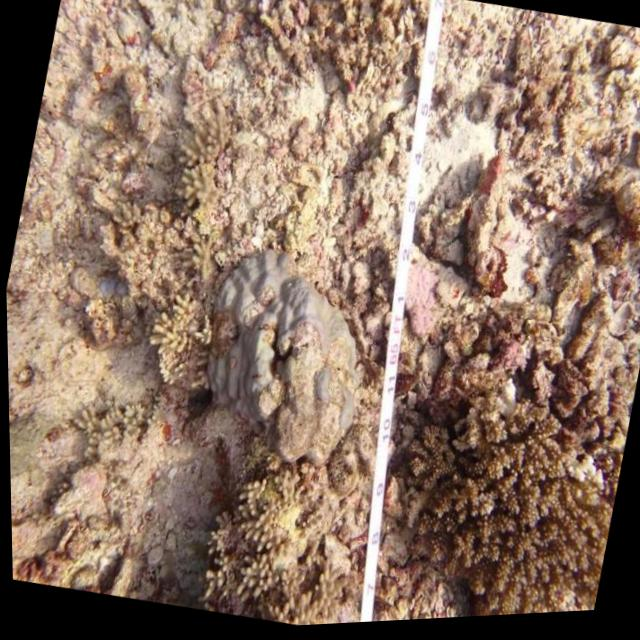Bleached Coral: (175, 223, 378, 464)
Dead Coral: (388, 390, 629, 624)
